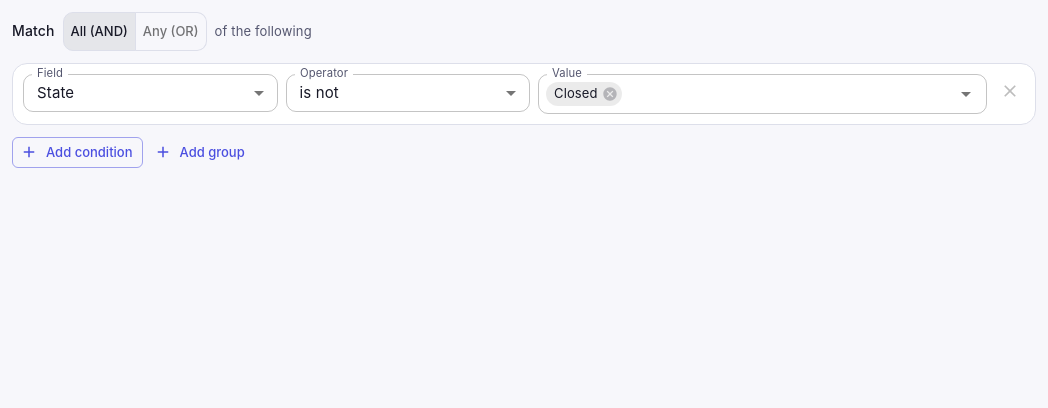
Test: FilterBuilder › adds a nested group with the opposite match mode, and removes it
The image size is (1048, 408).
Click the button "Add group" at (200, 152), box [150,137,250,168]
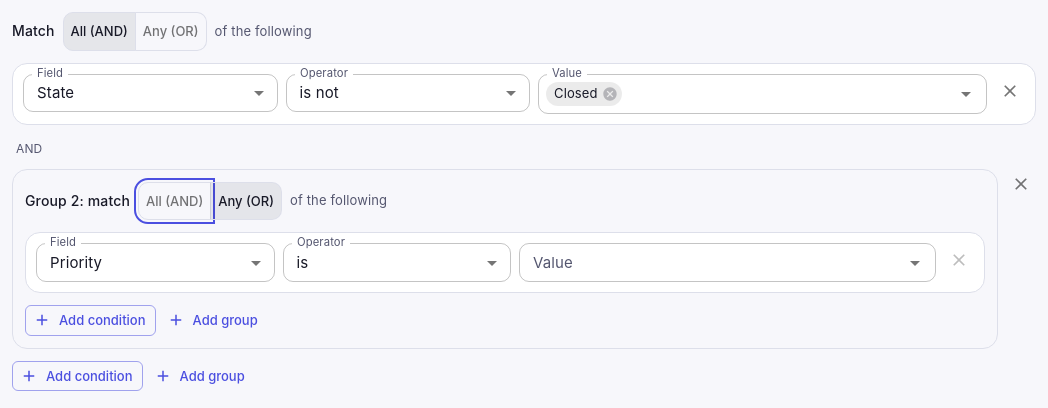
expect the element named "Condition 1" is shown: met, box [25,232,985,293]
Click the button "All (AND)" next to "Group 2: match" at (175, 201), box [138,182,211,220]
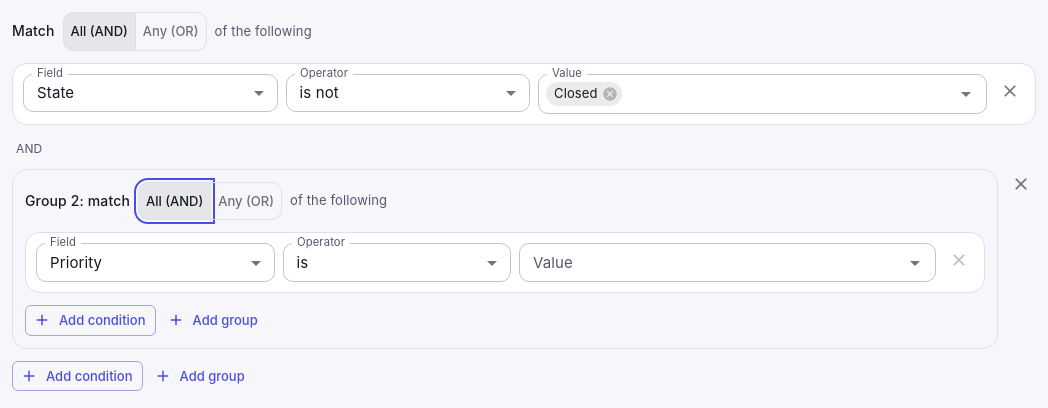
Click the button named "Remove group 2" at (1021, 184), box [1006,169,1036,199]
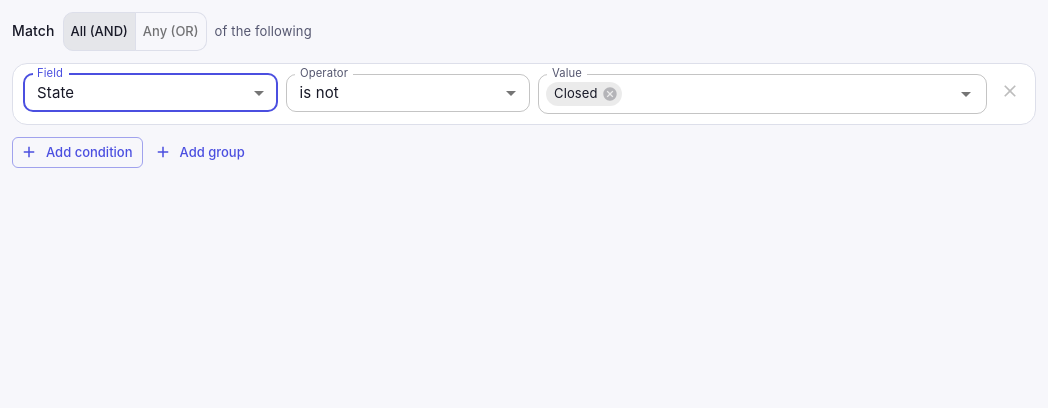
expect the text "Group 2" is gone: met
